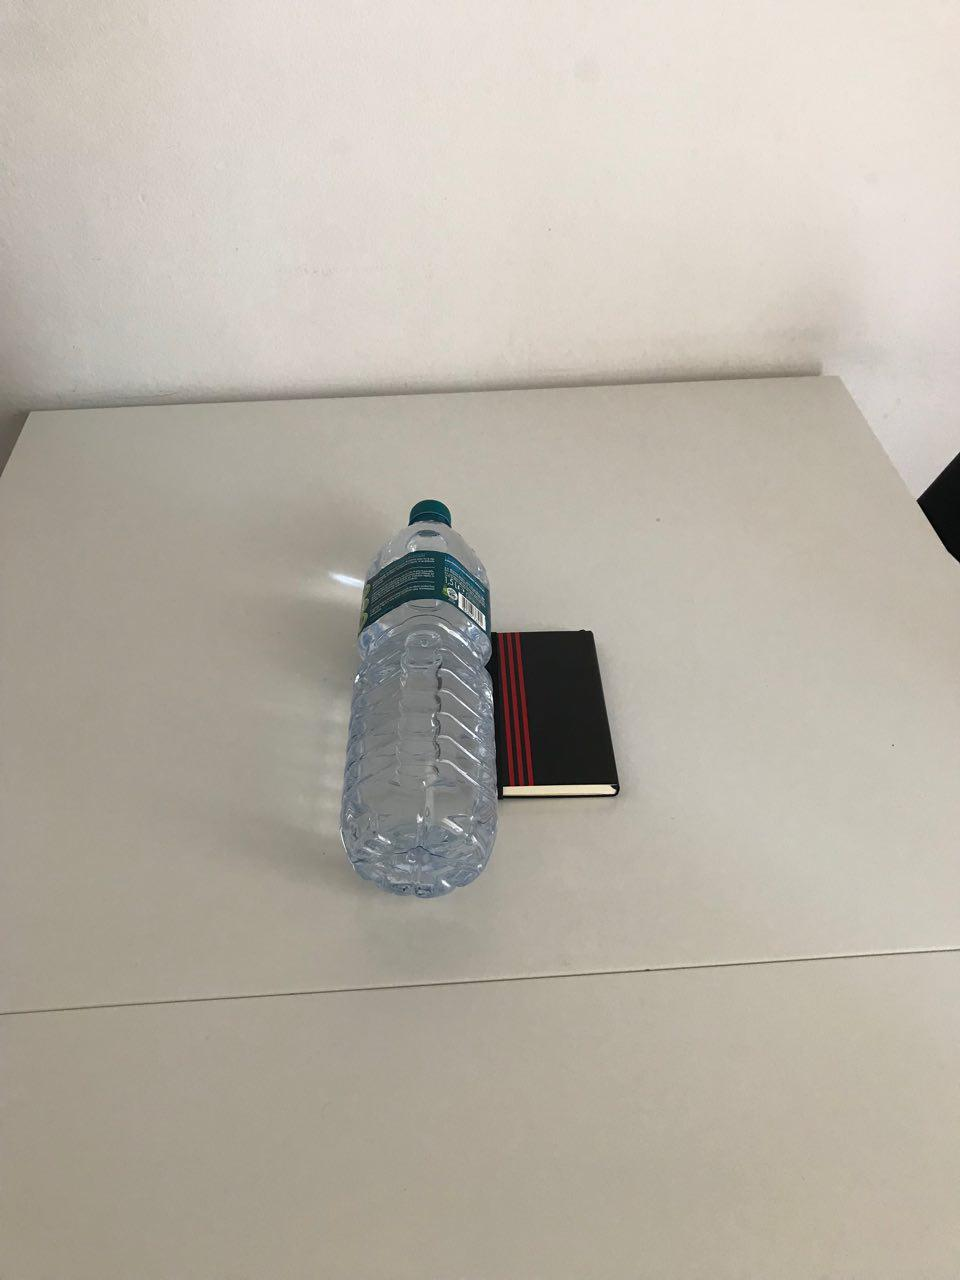san_bernardo: (338, 498, 499, 898)
